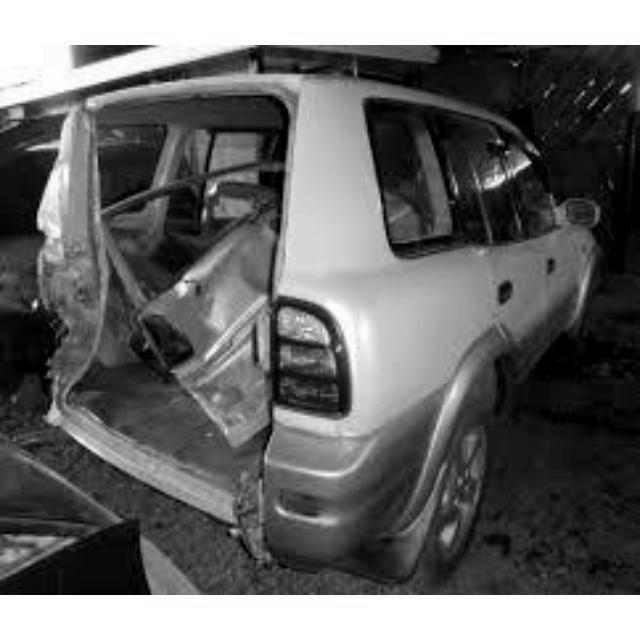Taillight-Damage: (24, 270, 98, 378)
